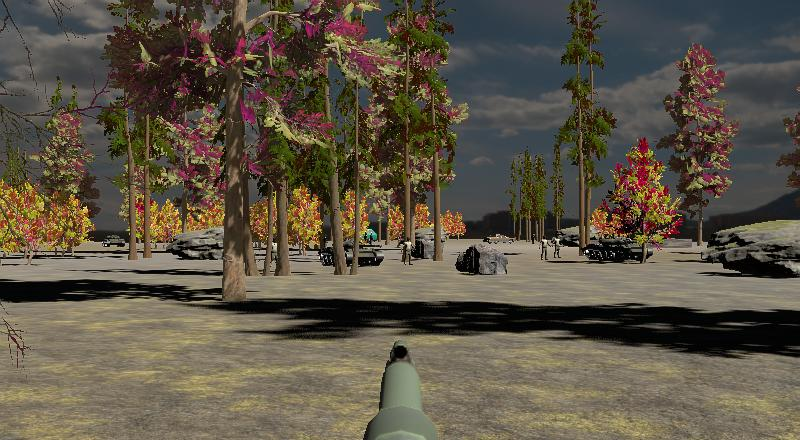Human: (401, 236, 414, 266)
Tank: (318, 237, 385, 268), (584, 234, 653, 264), (102, 232, 128, 248)
car: (481, 232, 514, 245)
